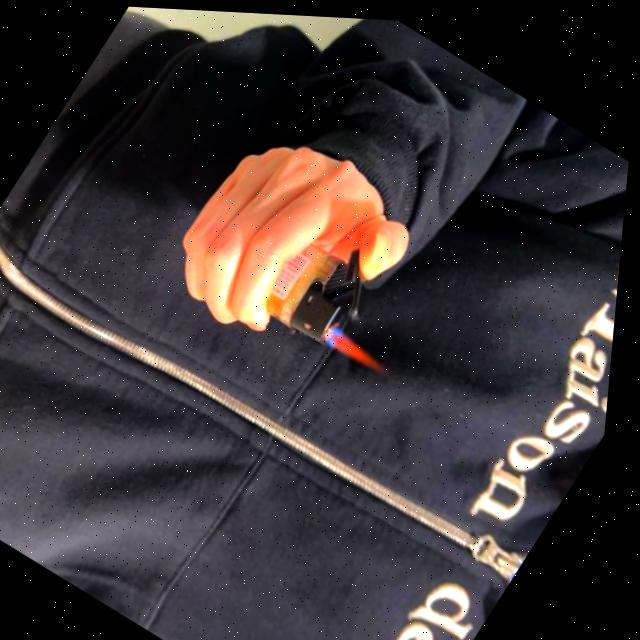Fire: (324, 319, 400, 374)
